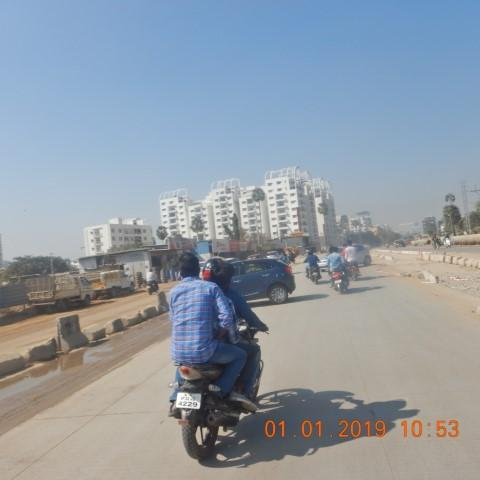plate: (175, 393, 202, 409)
